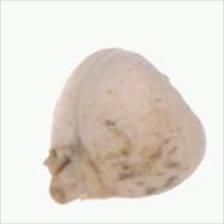L3: (43, 146, 107, 205)
L4: (43, 46, 207, 205)
